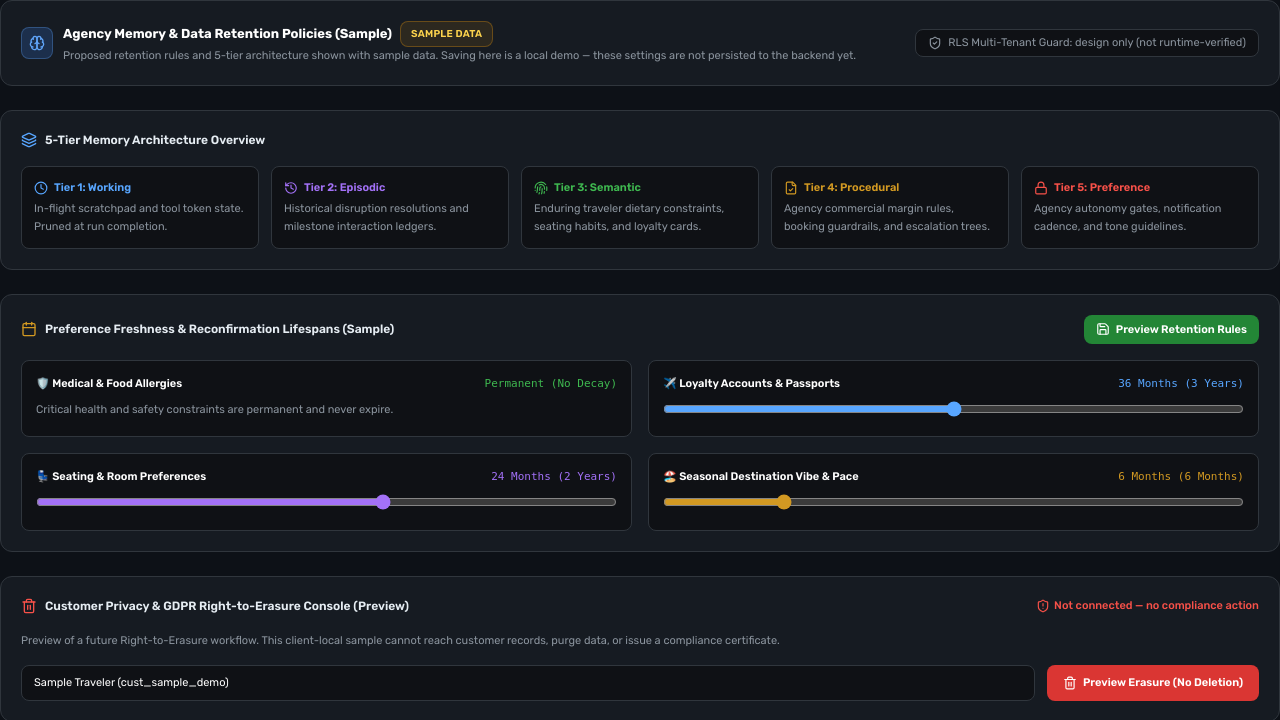
Test: D-08 sibling sample-panel boundaries › contains MemorySettingsTab persistence and compliance claims
The image size is (1280, 720).
Expected: the text with test id "simulated-badge" reads "Sample data", [411,28,482,40]
Expected: the text "not persisted to the backend yet" is shown, [63,49,856,62]
Click the button "Preview Retention Rules". click: (1171, 329)
box: [1084,315,1259,344]
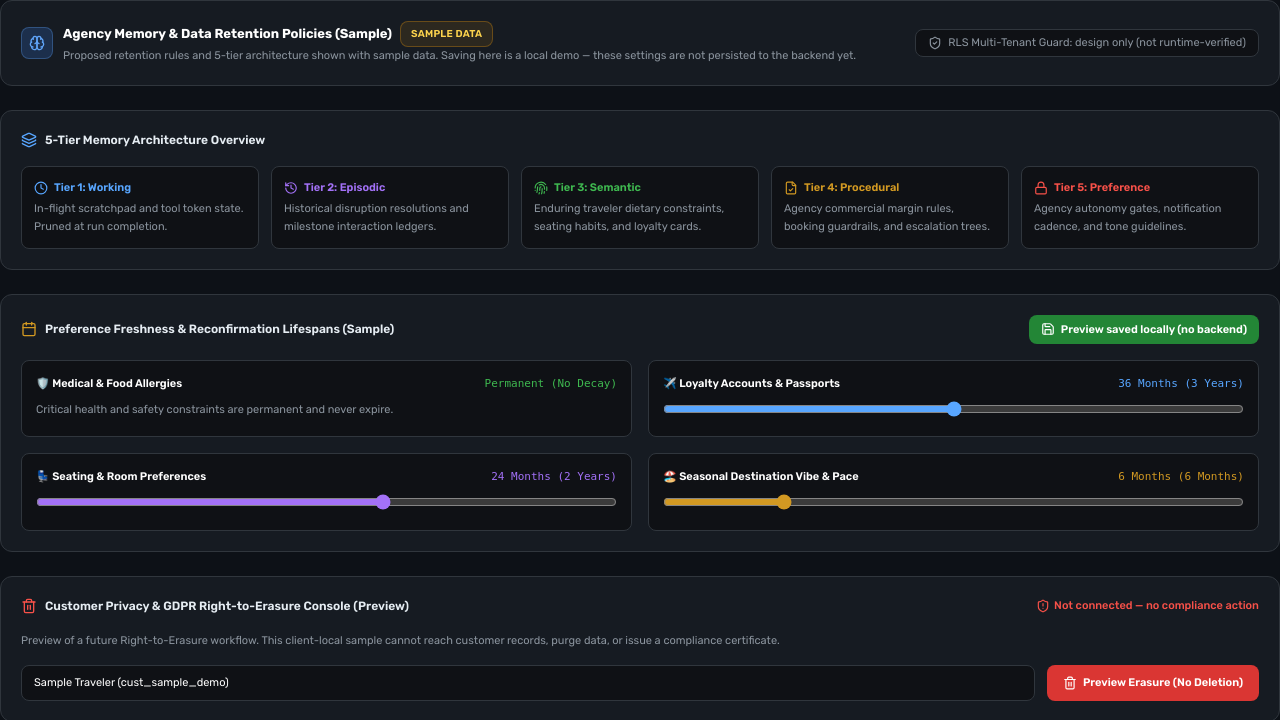
Result: the button "Preview saved locally (no backend)" is shown at [1029,315,1259,344]
